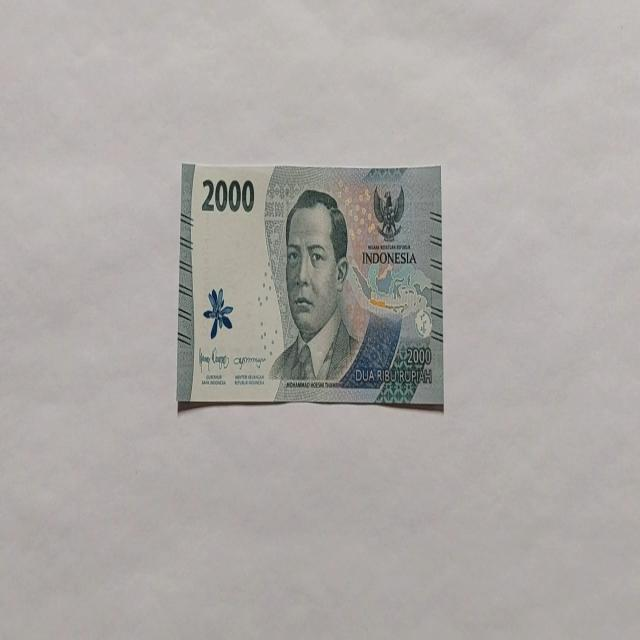dua ribu rupiah: (176, 161, 444, 411), (268, 188, 360, 382)
